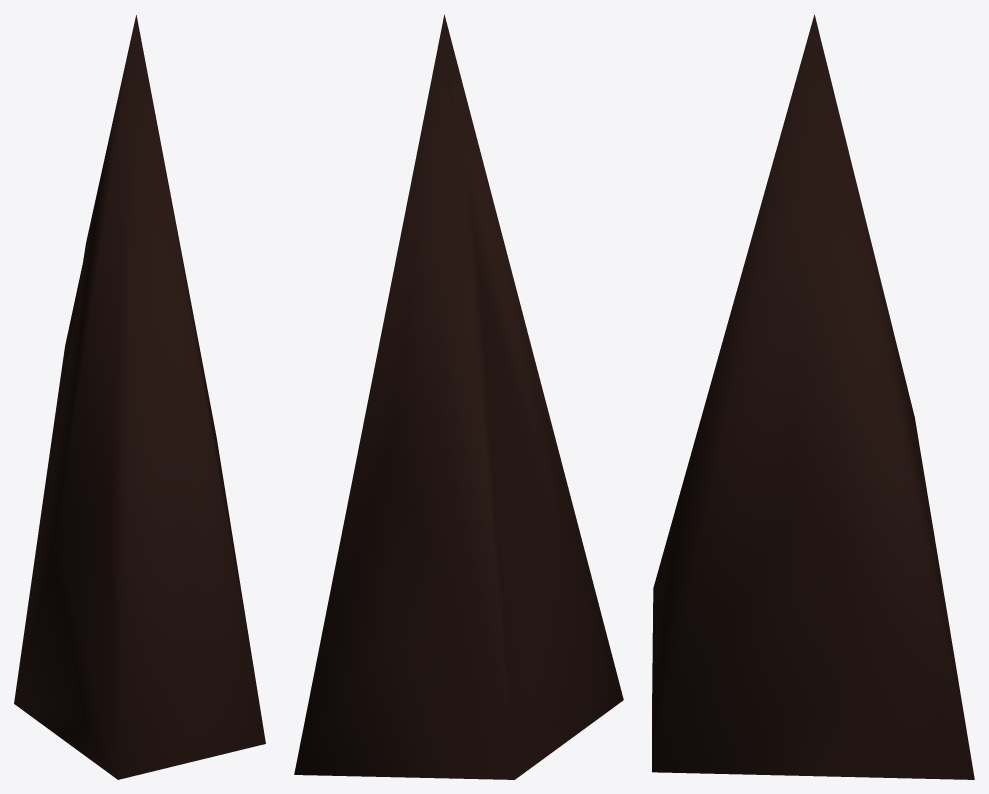
The model's file is stalagmite.FBX.
3 renders of one model, left to right at view 1: azimuth 30°, elevation 25°; view 2: azimuth 150°, elevation 25°; view 3: azimuth 270°, elevation 25°, orthographic. The views are drawn at different scales.
Parts seen in each view (by area): view 1: Rectangle001; view 2: Rectangle001; view 3: Rectangle001.
Part boxes in pixels (left/top/right/bottom): Rectangle001: left=14, top=15, right=265, bottom=779; Rectangle001: left=294, top=14, right=623, bottom=779; Rectangle001: left=652, top=14, right=974, bottom=779.
Bounding box in the file's own units: 14.59 × 50.06 × 20.04.
